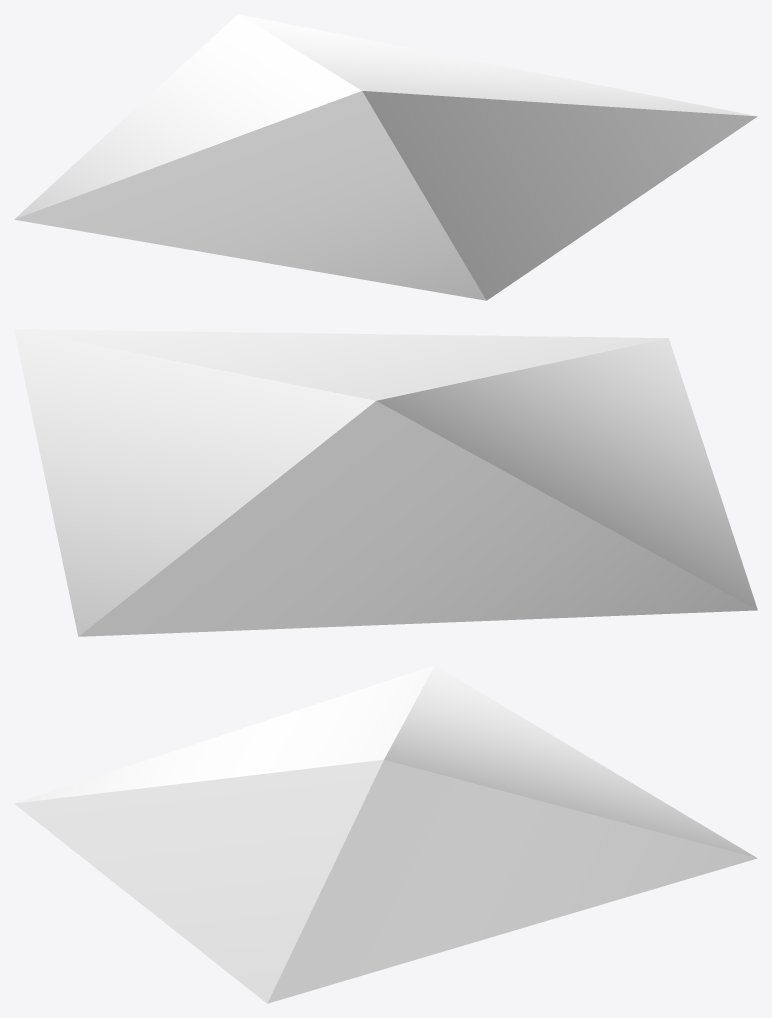
The model's file is SM_Env_Flowers_05.glb.
The picture shows the model from 3 angles, top to bottom: view 1: azimuth 30°, elevation 25°; view 2: azimuth 150°, elevation 25°; view 3: azimuth 270°, elevation 25°; orthographic projection. The views are drawn at different scales.
Parts seen in each view (by area): view 1: SM_Env_Flowers_05; view 2: SM_Env_Flowers_05; view 3: SM_Env_Flowers_05.
Boxes of the visible parts, <box> form: SM_Env_Flowers_05: <box>14,14,757,300</box>; SM_Env_Flowers_05: <box>14,329,757,636</box>; SM_Env_Flowers_05: <box>14,665,757,1003</box>.
Bounding box in the file's own units: 0.3885 × 0.0378 × 0.3607.
1 material, 1 textured.
